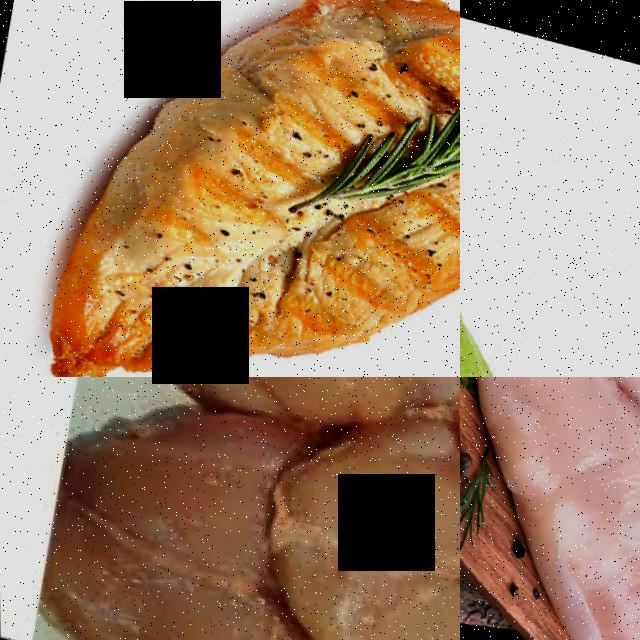chayote: (460, 6, 567, 377)
chicken breast: (14, 377, 290, 640), (272, 386, 460, 640), (460, 377, 640, 640)
